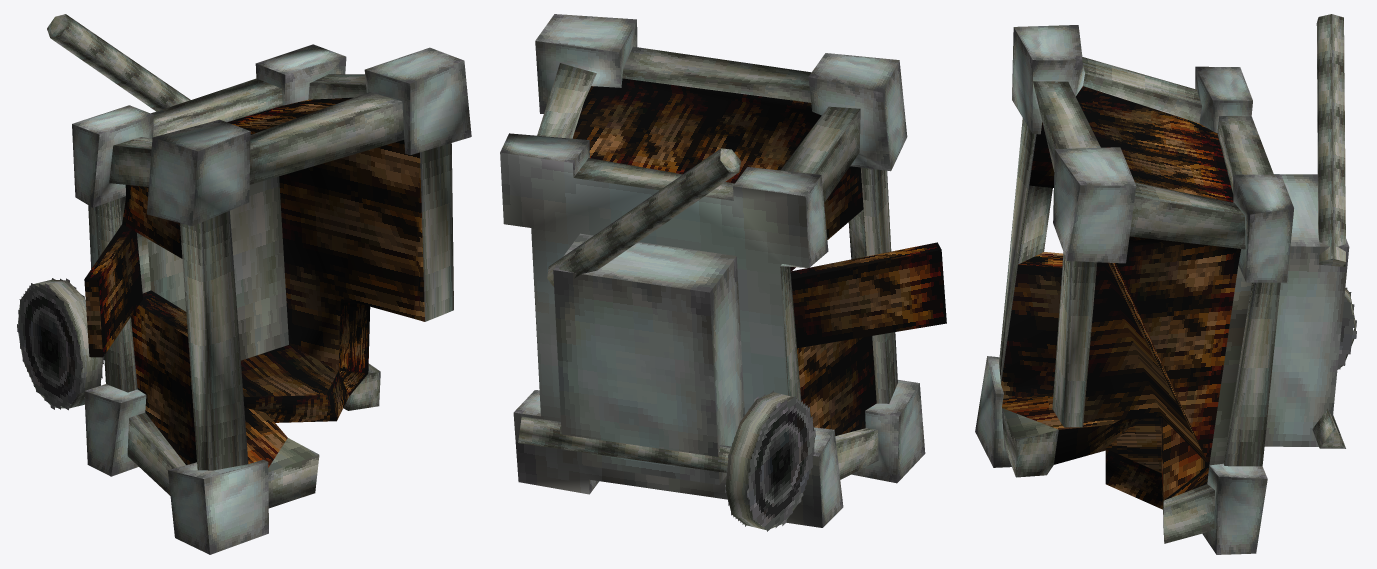
File: INST_SWORDLIGHT_MINECARTBROKE.fbx
3 renders of one model, left to right at view 1: azimuth 30°, elevation 25°; view 2: azimuth 150°, elevation 25°; view 3: azimuth 270°, elevation 25°, orthographic. The views are drawn at different scales.
Visible parts, largest first — view 1: INST_SWORDLIGHT_MINECARTBROKE; view 2: INST_SWORDLIGHT_MINECARTBROKE; view 3: INST_SWORDLIGHT_MINECARTBROKE.
Boxes of the visible parts, x1,y1,x2,y2 form: INST_SWORDLIGHT_MINECARTBROKE: (17, 14, 471, 554); INST_SWORDLIGHT_MINECARTBROKE: (500, 14, 946, 531); INST_SWORDLIGHT_MINECARTBROKE: (975, 14, 1356, 554).
Size of the model in its own units: 14331 by 15134 by 12192.
Materials: 4 (4 with a texture image).
